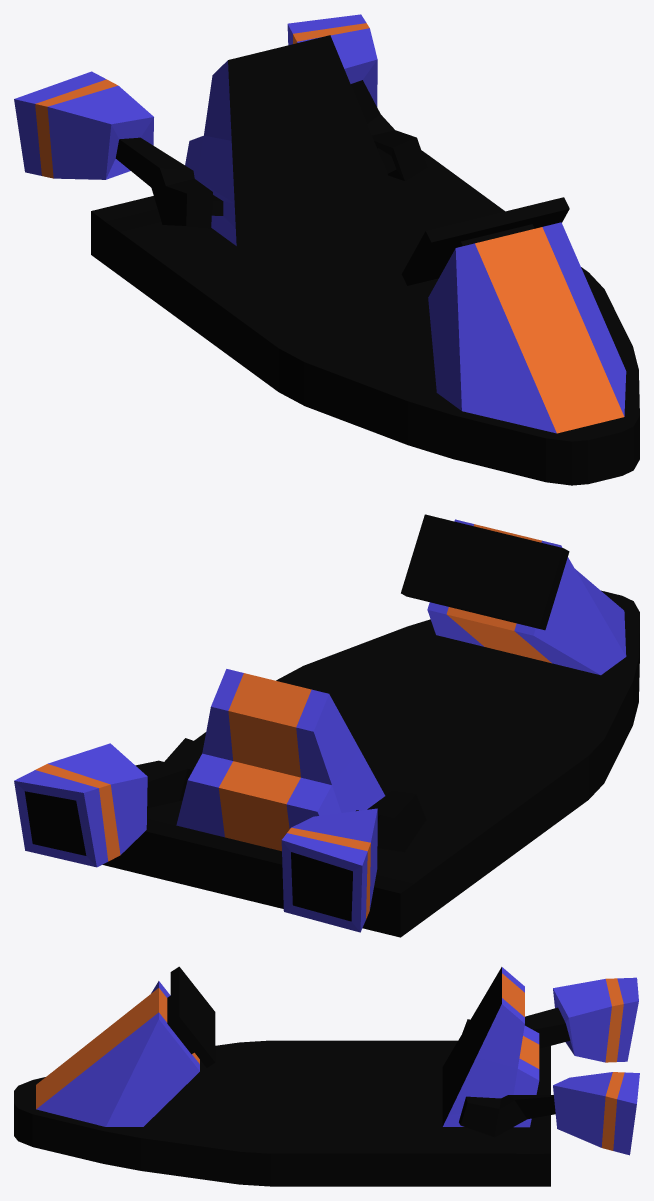
File: Kart_Water.fbx
3 views of the same model, one above another, from view 1: azimuth 30°, elevation 25°; view 2: azimuth 150°, elevation 25°; view 3: azimuth 270°, elevation 25° (orthographic). The views are drawn at different scales.
Parts seen in each view (by area): view 1: Kart_Water; view 2: Kart_Water; view 3: Kart_Water.
Boxes of the visible parts, x1,y1,x2,y2 form: Kart_Water: (14, 14, 639, 485); Kart_Water: (14, 514, 639, 937); Kart_Water: (14, 966, 639, 1186).
Bounding box in the file's own units: 82.27 × 172 × 43.83.
